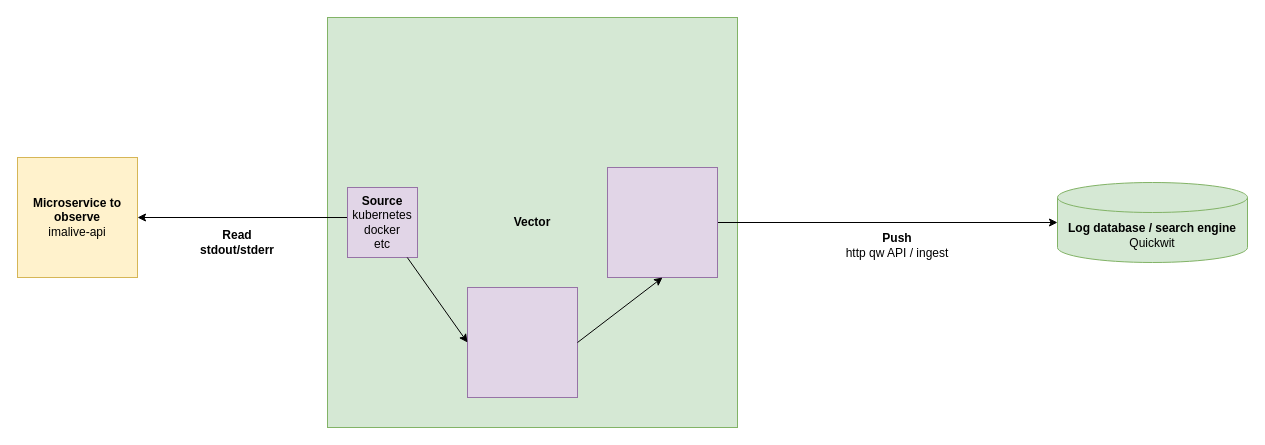
Image size: 1265x445. Some labels were removed from this diagram. Here are the shapes that lost their labels. From the top down, the centre of each, then its label:
point 662,222: Sink http webhook
point 522,342: transforms json mapping
